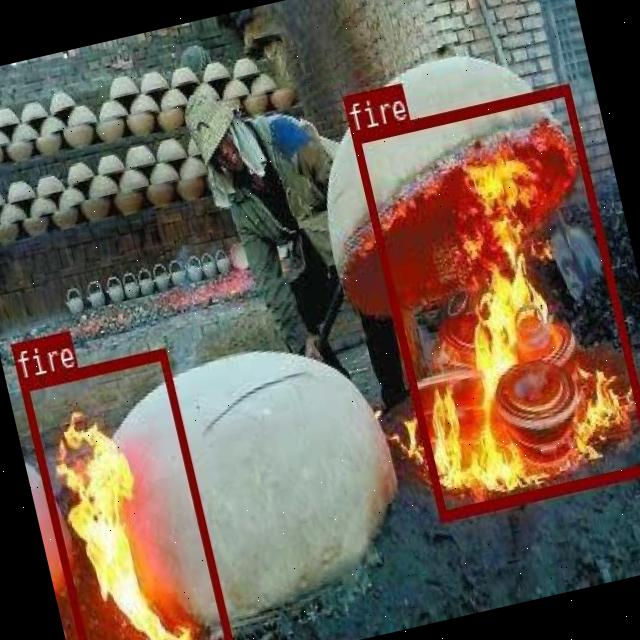fire: (350, 82, 640, 520), (17, 347, 232, 640)
